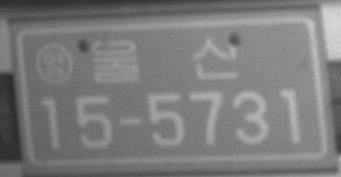-: (115, 115, 143, 129)
1: (276, 86, 307, 145), (34, 97, 66, 150)
3: (232, 88, 270, 145)
5: (145, 91, 185, 148), (73, 94, 113, 149)
7: (189, 88, 223, 147)
영: (34, 40, 74, 87)
울산_D: (90, 33, 242, 82)
